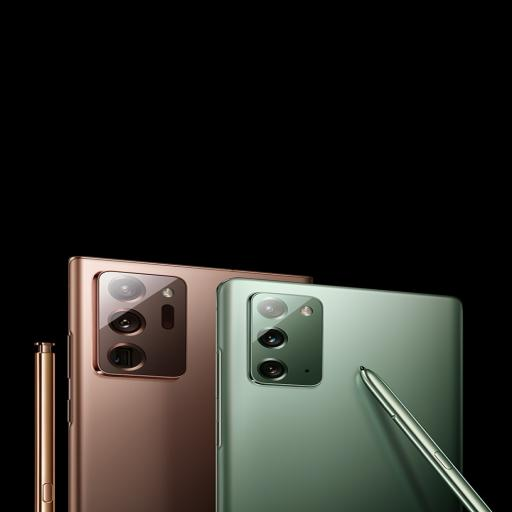phone: (204, 277, 480, 512)
